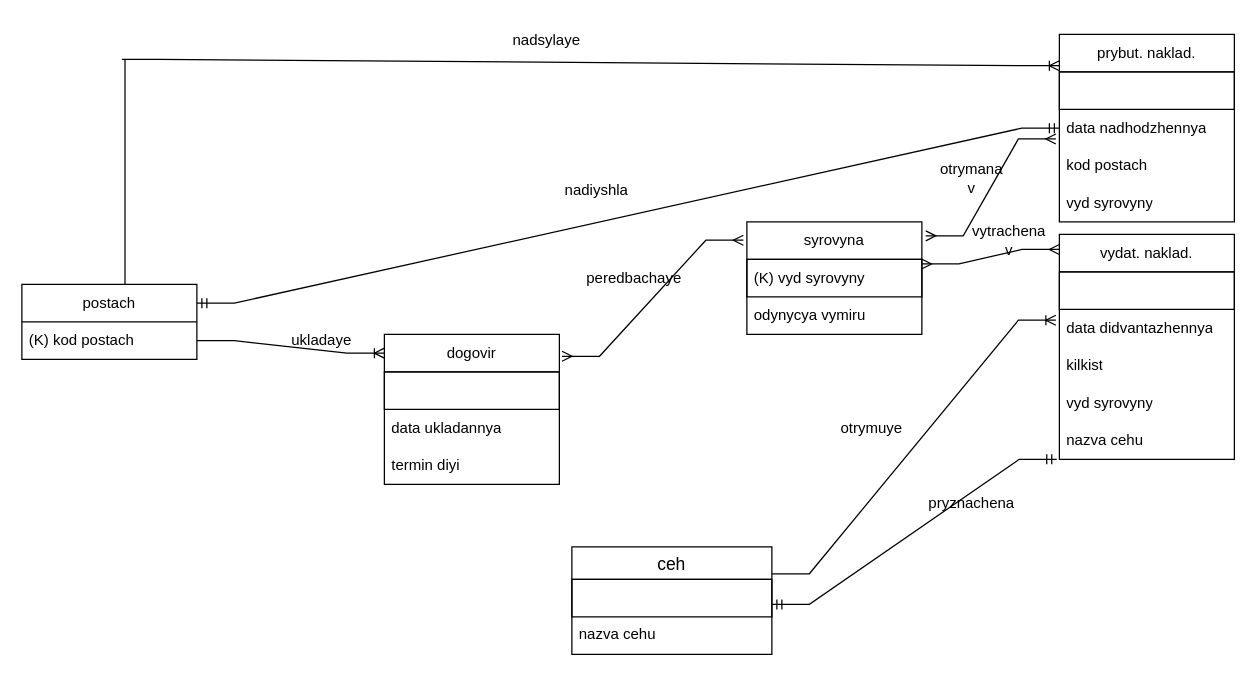
Image size: 1256x679. Some labels were removed from this diagram. The centre of each missing label's shape, as x and y in pixels:
(K) id cehu: point (671, 597)
(K) id pr. naklad.: point (1146, 90)
(K) id vyd. naklad.: point (1146, 290)
(K) nomer dogovoru: point (471, 390)
